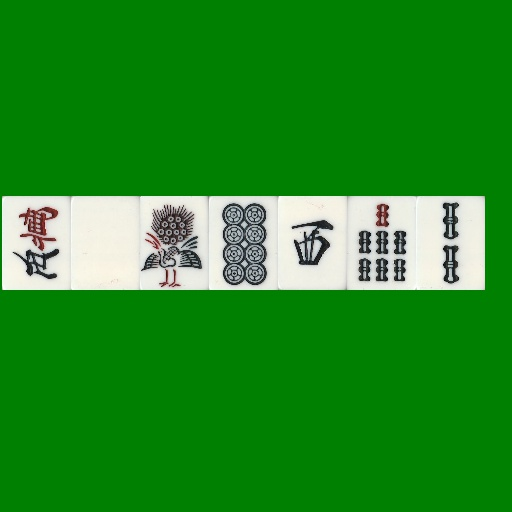1s: (140, 196, 209, 290)
2s: (416, 196, 485, 290)
5m: (2, 196, 71, 290)
7s: (347, 196, 416, 290)
8p: (209, 196, 278, 290)
west: (278, 196, 347, 290)
white: (71, 196, 140, 290)
